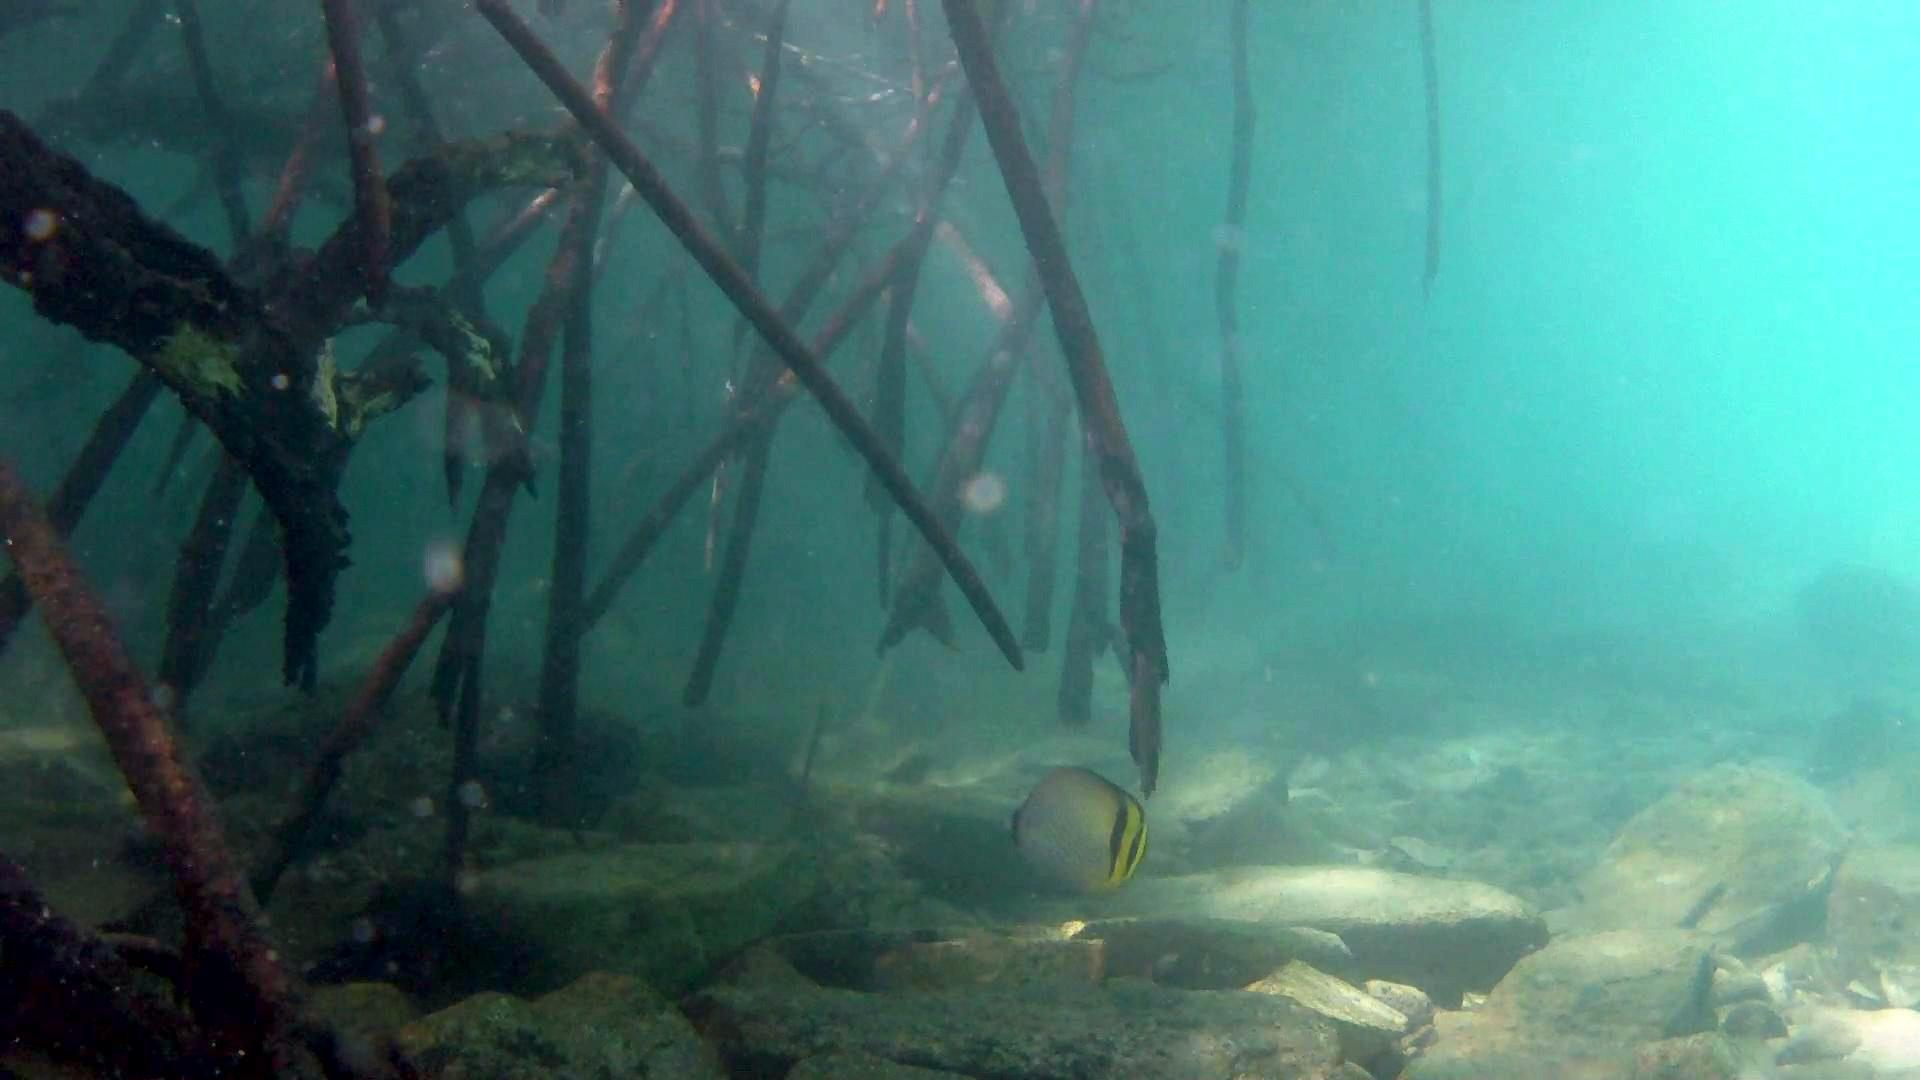chaetodon vagabundus: (996, 761, 1156, 900)
